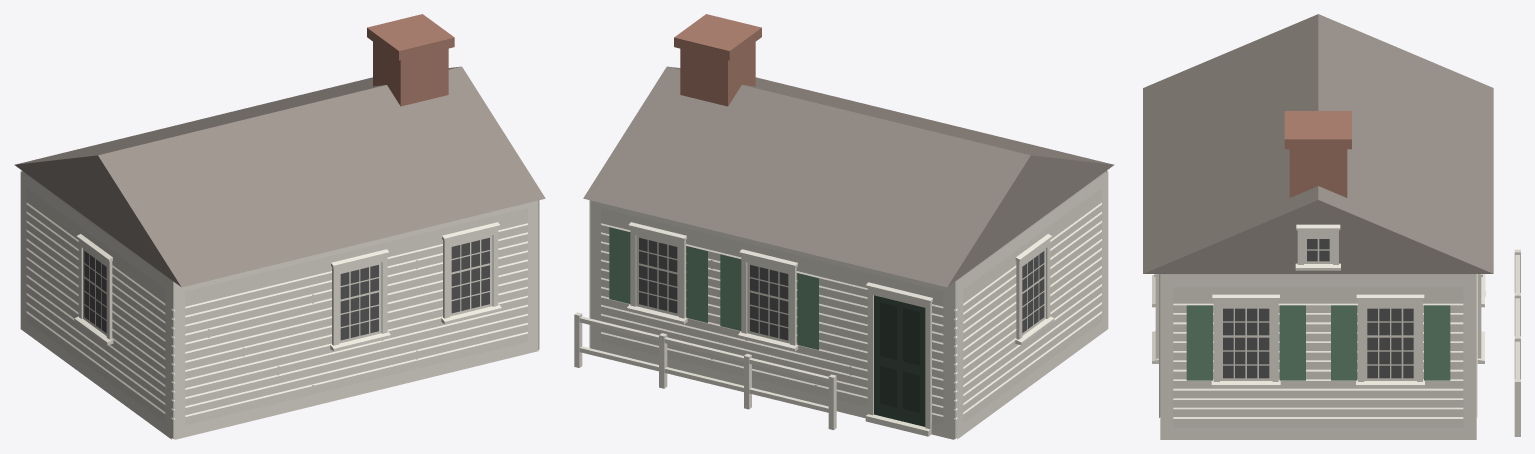
Rendered from log_jail_keeper_house__frame_1835.glb.
3 views of the same model, side by side, from view 1: azimuth 30°, elevation 25°; view 2: azimuth 150°, elevation 25°; view 3: azimuth 270°, elevation 25° (orthographic). The views are drawn at different scales.
Parts seen in each view (by area): view 1: log_jail_keeper_house__frame_1835; view 2: log_jail_keeper_house__frame_1835; view 3: log_jail_keeper_house__frame_1835.
Boxes of the visible parts, box(x1,y1,x2,y2) form: log_jail_keeper_house__frame_1835: box(14, 14, 545, 439); log_jail_keeper_house__frame_1835: box(574, 14, 1114, 439); log_jail_keeper_house__frame_1835: box(1143, 14, 1520, 439).
Bounding box in the file's own units: 6.65 × 4.62 × 5.49.
